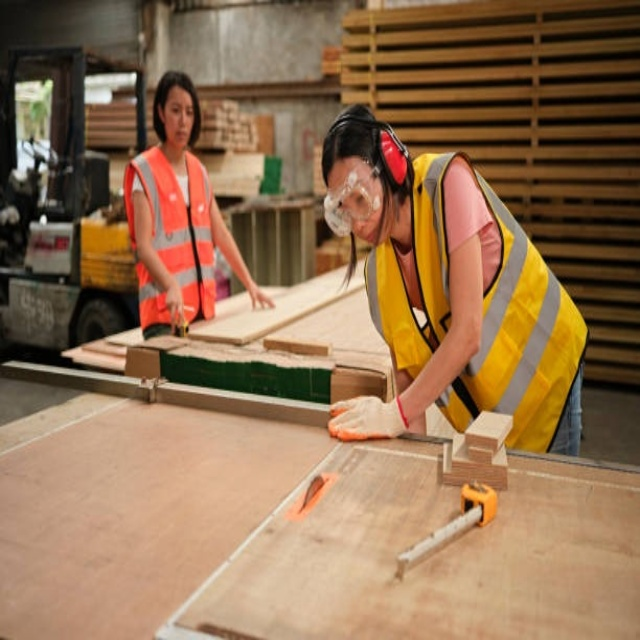Gafas: (322, 155, 380, 246)
Guantes: (328, 393, 410, 441)
Sin_gafas: (167, 100, 195, 119)
Sin_guantes: (164, 290, 193, 331), (247, 285, 275, 311)
Sin_mascara: (166, 124, 195, 146), (360, 223, 382, 249)
